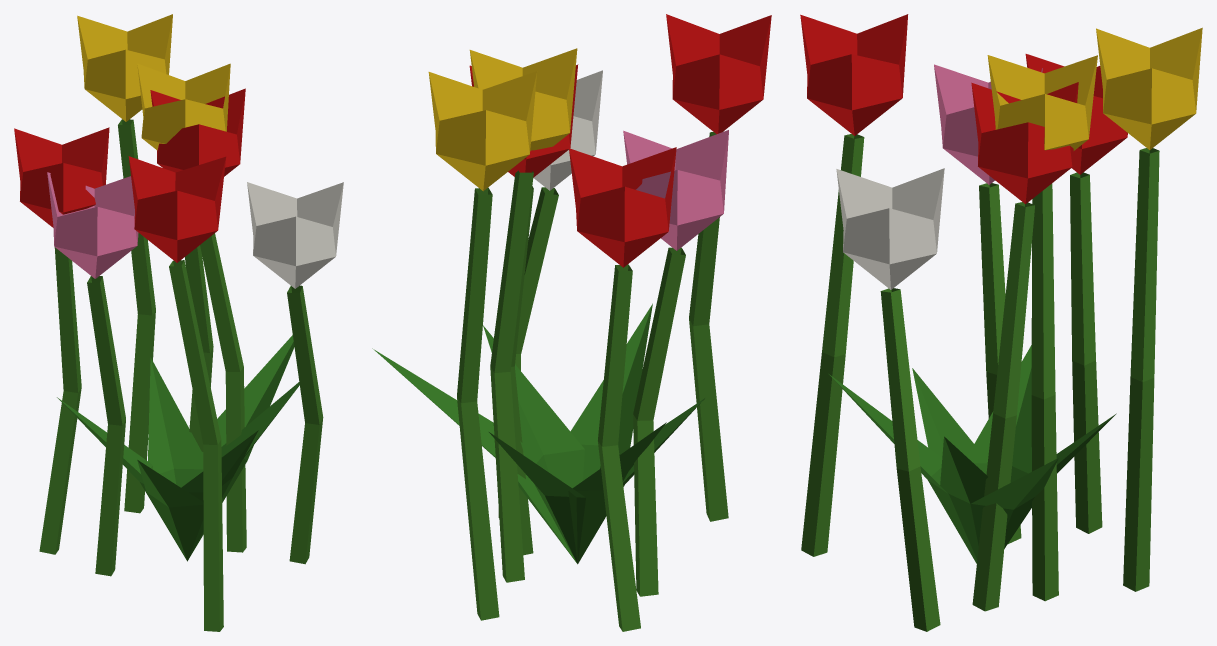
Rendered from flower_tulips.glb.
3 views of the same model, side by side, from view 1: azimuth 30°, elevation 25°; view 2: azimuth 150°, elevation 25°; view 3: azimuth 270°, elevation 25° (orthographic). The views are drawn at different scales.
Parts seen in each view (by area): view 1: Tulips; view 2: Tulips; view 3: Tulips.
Boxes of the visible parts, x1,y1,x2,y2 form: Tulips: (14, 14, 343, 631); Tulips: (372, 14, 771, 631); Tulips: (800, 14, 1202, 631).
Size of the model in its own units: 0.3393 by 0.5517 by 0.3695.
